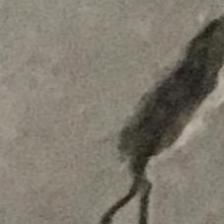Crack: (72, 0, 224, 224)
